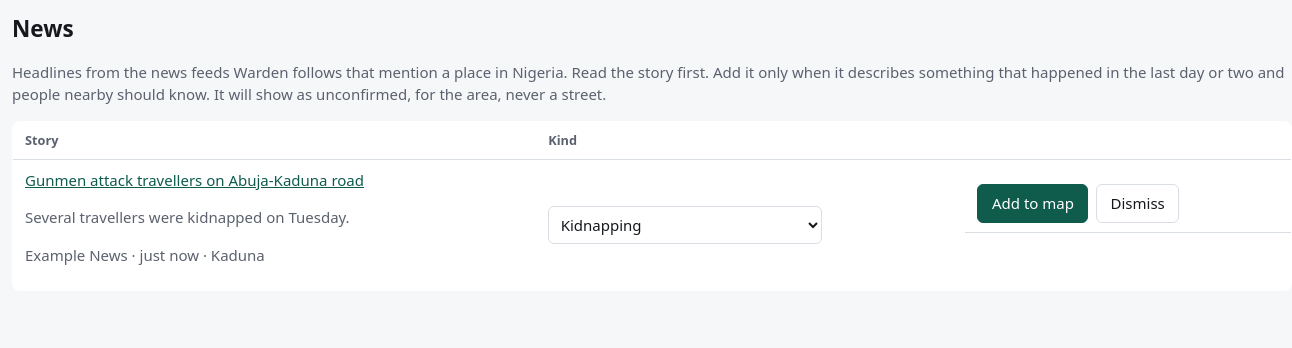
Test: NewsPage › adds a story to the map with the kind the moderator chose
Click the button "Add to map".
click(1033, 204)  # box [978,184,1088,223]
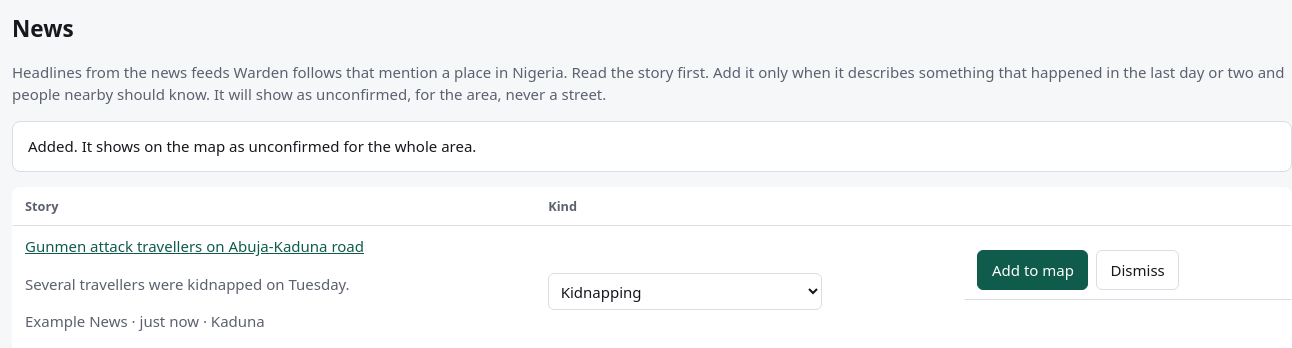
Expected: the text "unconfirmed for the whole area" is shown, [28,136,476,156]
